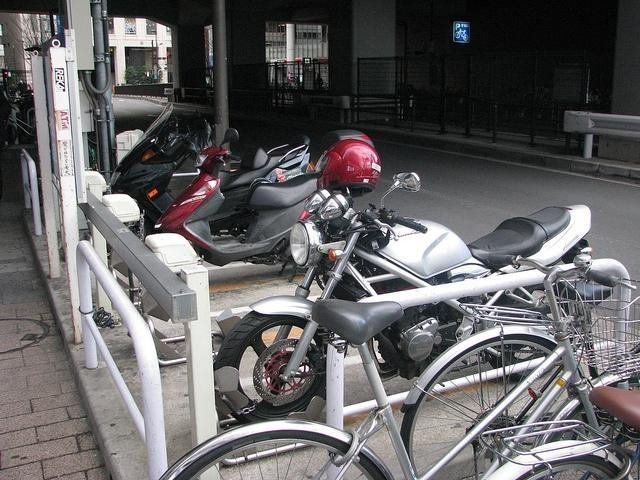bicycle: (164, 264, 630, 474), (482, 387, 640, 480), (418, 303, 546, 379)
motorcycle: (213, 170, 596, 420), (152, 126, 380, 266), (110, 119, 314, 237)
